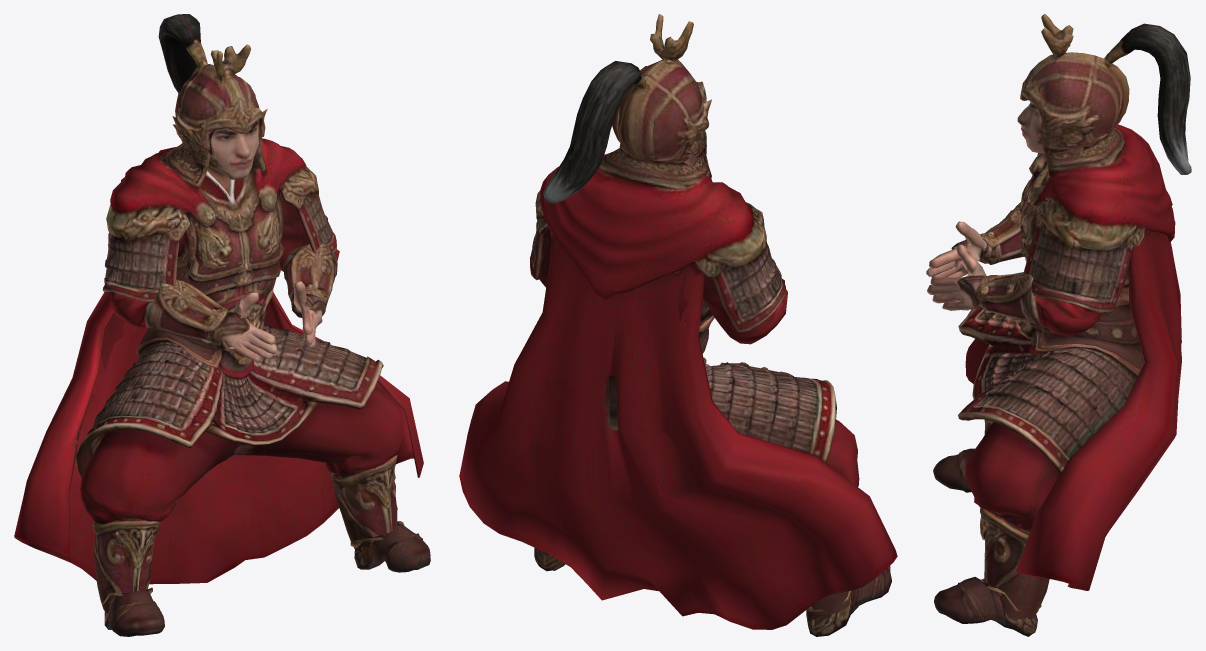
File: sun-ce.glb
3 renders of one model, left to right at view 1: azimuth 30°, elevation 25°; view 2: azimuth 150°, elevation 25°; view 3: azimuth 270°, elevation 25°, orthographic. The views are drawn at different scales.
Size of the model in its own units: 1.48 by 1.92 by 0.8384.
Materials: 1 (1 with a texture image).
